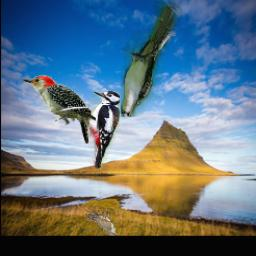Cuckoo: (122, 0, 183, 117), (86, 206, 119, 236)
Woodpecker: (23, 76, 97, 145), (88, 91, 120, 169)
